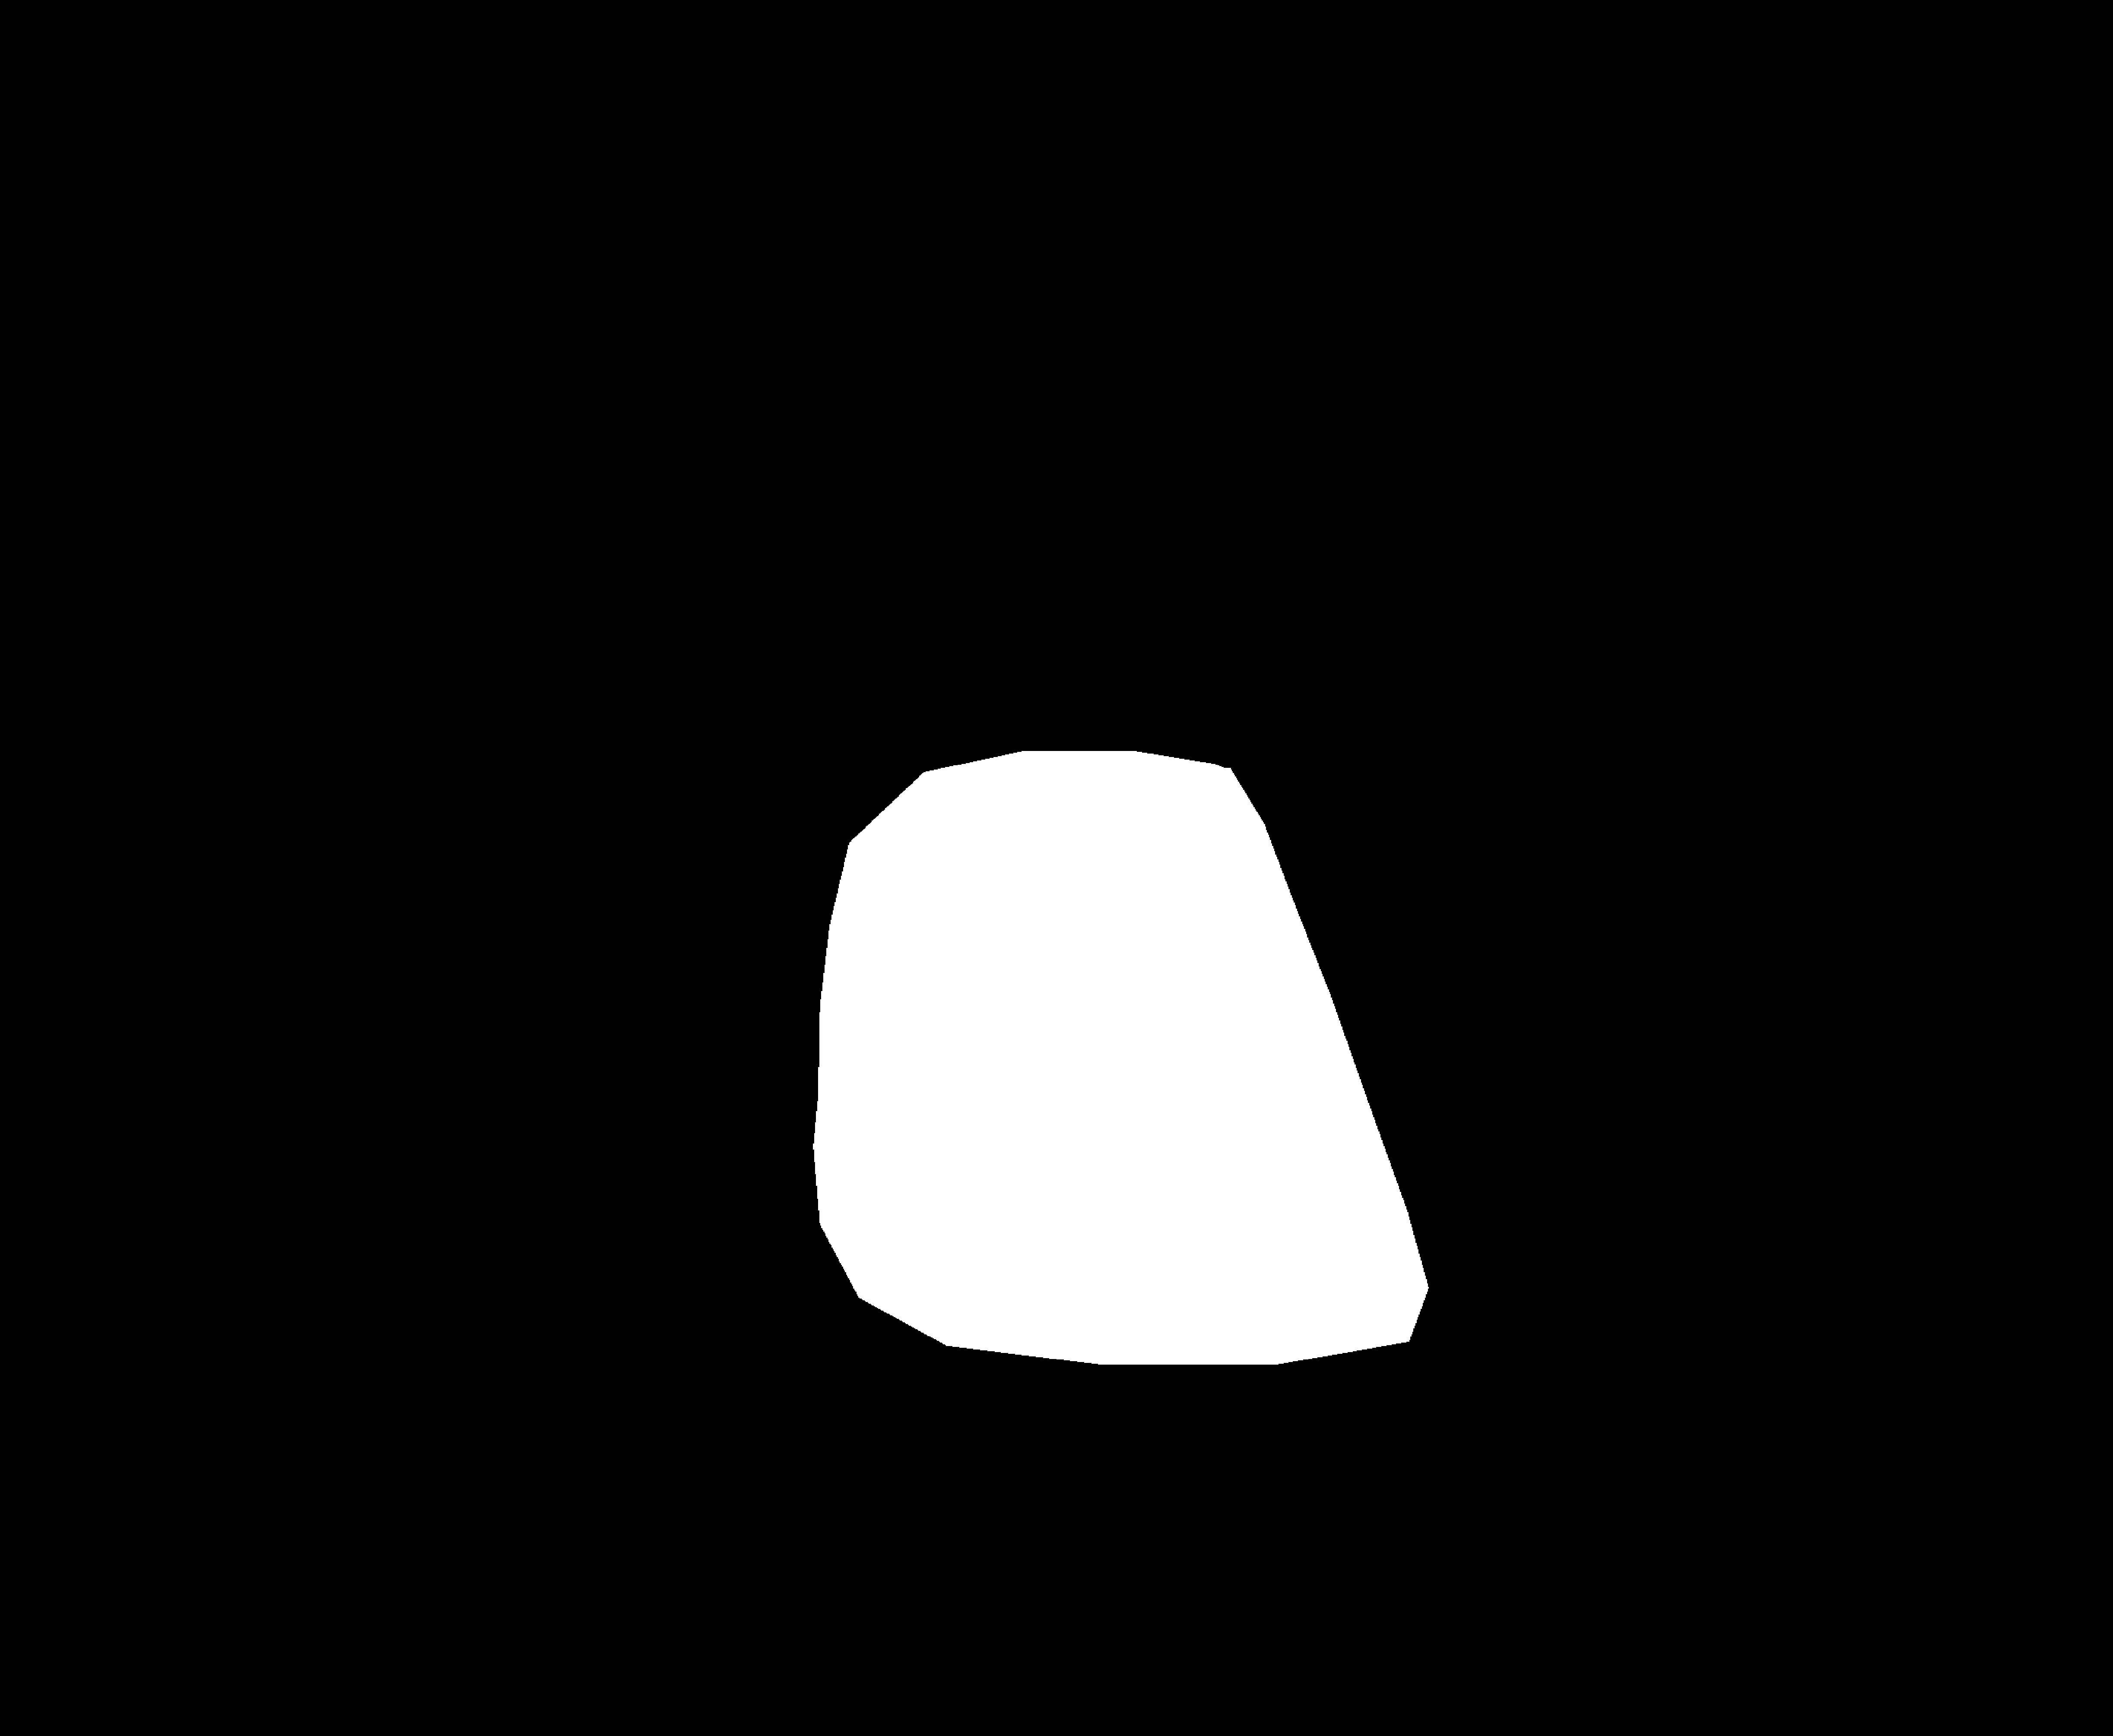heart: (770, 764, 1425, 1378)
left_lung: (154, 2, 969, 1536)
right_lung: (1144, 2, 1909, 1587)
